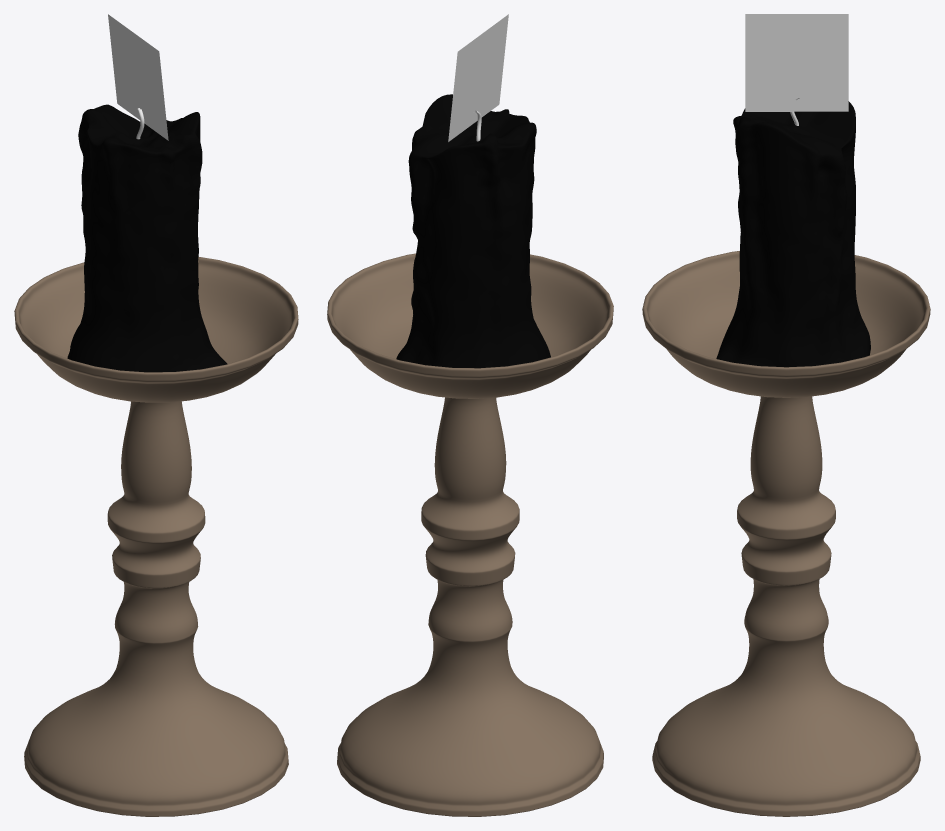
3 views of the same model, side by side, from view 1: azimuth 30°, elevation 25°; view 2: azimuth 150°, elevation 25°; view 3: azimuth 270°, elevation 25° (orthographic).
Parts seen in each view (by area): view 1: 立方体.061, candle, 平面; view 2: 立方体.061, candle, 平面; view 3: 立方体.061, candle, 平面.
Part boxes in pixels (x1,y1,x2,y2): 立方体.061: [14, 257, 298, 816]; candle: [67, 104, 227, 372]; 平面: [108, 14, 168, 140]; 立方体.061: [327, 253, 613, 816]; candle: [396, 94, 550, 368]; 平面: [448, 14, 508, 141]; 立方体.061: [642, 251, 930, 816]; candle: [716, 101, 870, 367]; 平面: [745, 14, 848, 111].
Bounding box in the file's own units: 38.5 × 109 × 38.5.
